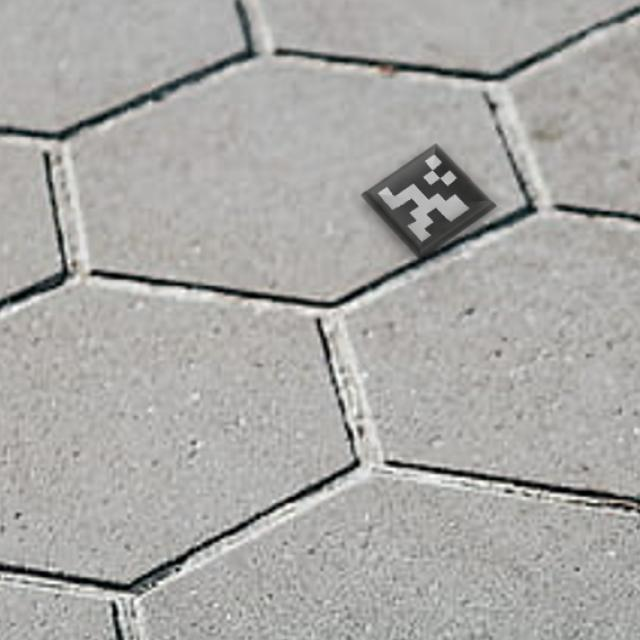marker: (356, 137, 501, 270)
